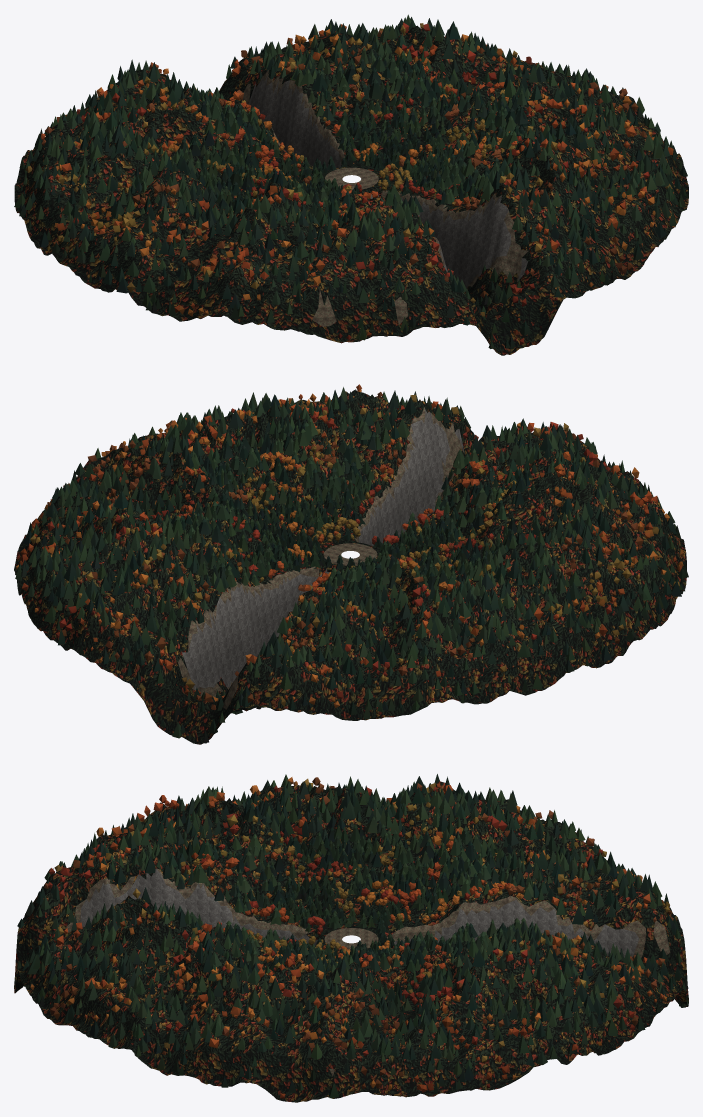
Rendered from backdrop_near_c23_autumn.glb.
3 renders of one model, top to bottom at view 1: azimuth 30°, elevation 25°; view 2: azimuth 150°, elevation 25°; view 3: azimuth 270°, elevation 25°, orthographic.
Visible parts, largest first — view 1: near_land_S, trees_land_W_0, trees_land_S_0, near_land_W, trees_land_E_0, trees_land_N_0, near_land_E, near_land_N; view 2: near_land_N, trees_land_N_0, trees_land_W_0, near_land_W, trees_land_E_0, trees_land_S_0, near_land_S, near_land_E; view 3: near_land_E, trees_land_E_0, trees_land_W_0, near_land_S, trees_land_N_0, trees_land_S_0, near_land_N, near_land_W.
Boxes of the visible parts, x1,y1,x2,y2 form: near_land_S: (263, 135, 677, 355); trees_land_W_0: (14, 100, 338, 318); trees_land_S_0: (266, 128, 676, 349); near_land_W: (14, 107, 325, 324); trees_land_E_0: (362, 19, 687, 211); trees_land_N_0: (33, 14, 434, 174); near_land_E: (357, 25, 688, 223); near_land_N: (26, 27, 414, 175); near_land_N: (26, 524, 441, 744); trees_land_N_0: (34, 513, 434, 743); trees_land_W_0: (364, 463, 688, 703); near_land_W: (376, 472, 686, 704); trees_land_E_0: (15, 392, 341, 596); trees_land_S_0: (275, 384, 675, 547); near_land_S: (280, 390, 644, 552); near_land_E: (14, 406, 347, 604); near_land_E: (114, 931, 590, 1102); trees_land_E_0: (131, 923, 587, 1098); trees_land_W_0: (136, 774, 562, 929); near_land_S: (14, 820, 332, 1047); trees_land_N_0: (375, 819, 688, 1045); trees_land_S_0: (17, 813, 327, 1048); near_land_N: (371, 825, 688, 1055); near_land_W: (141, 781, 562, 931).
Bounding box in the file's own units: 577 × 175 × 576.
Materials: 4 (3 with a texture image).
